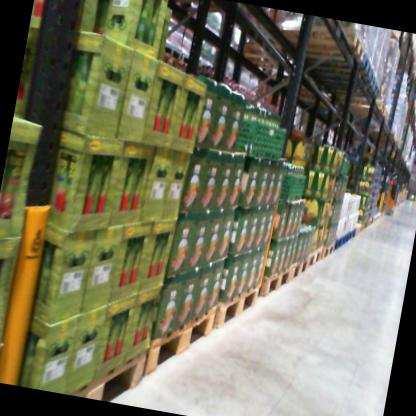pallet: (141, 292, 218, 393), (263, 15, 370, 74), (75, 335, 149, 407), (295, 39, 375, 88), (213, 270, 261, 332), (239, 31, 300, 75), (331, 90, 390, 116), (259, 256, 292, 301), (155, 38, 186, 63), (286, 251, 310, 283), (305, 242, 325, 273), (319, 238, 335, 261), (335, 230, 351, 252), (328, 234, 342, 257), (181, 51, 202, 66)
pallet_truck: (376, 143, 408, 220)
